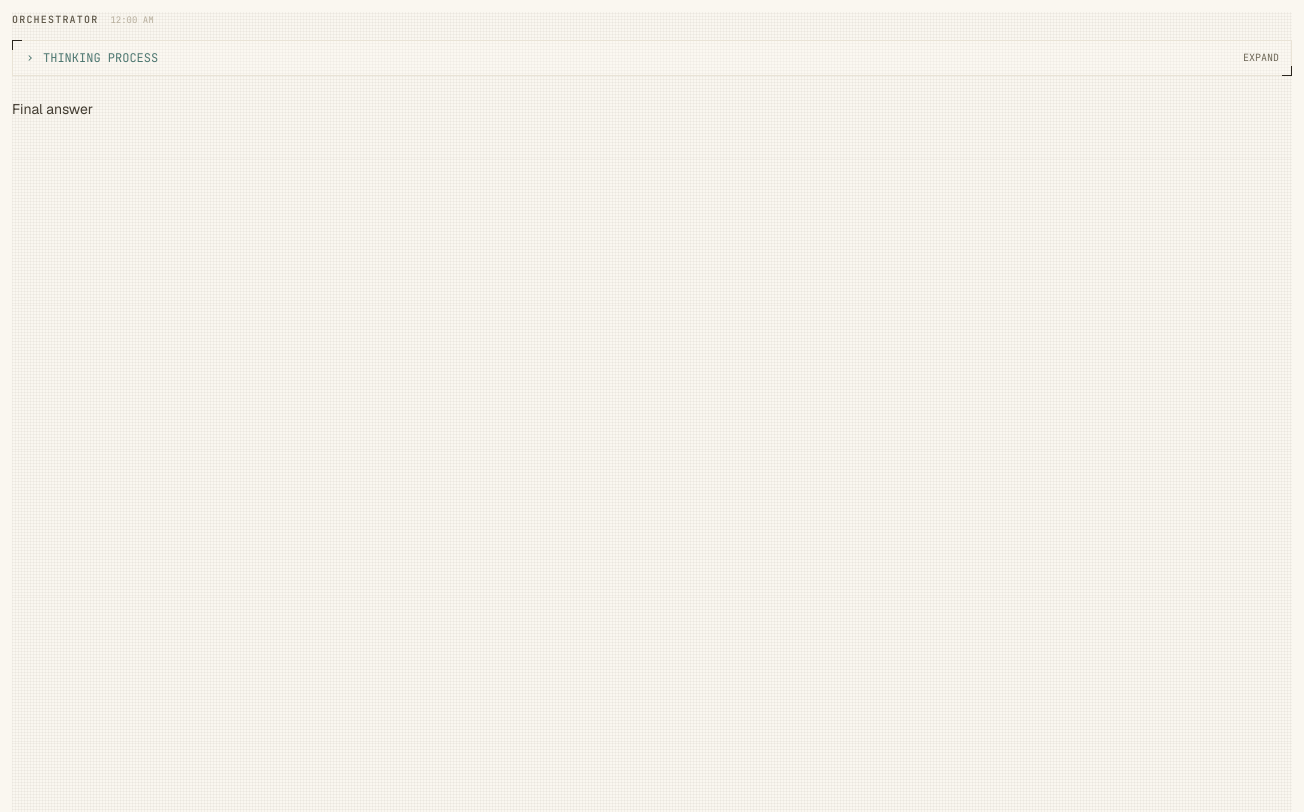
ChatMessage › shows a collapsible THINKING PROCESS section when message has reasoning
The width and height of the screenshot is (1304, 812).
expect the text "EXPAND" is shown: met, box left=1243, top=50, right=1279, bottom=65
expect the text "Step-by-step reasoning trace..." is not shown: met
// Click to expand
Click the text "THINKING PROCESS" at [101, 58], box left=43, top=48, right=158, bottom=66
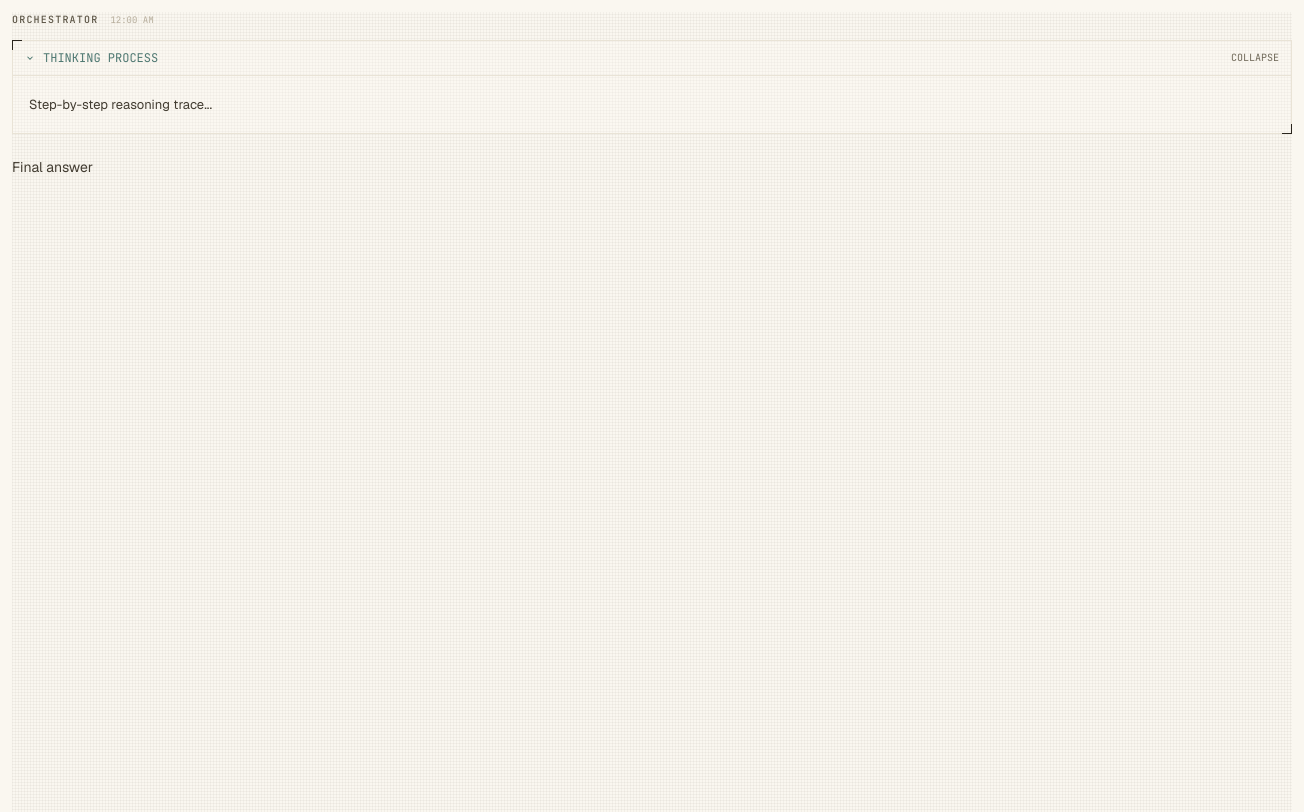
expect the text "Step-by-step reasoning trace..." is shown: met, box left=29, top=96, right=212, bottom=112
expect the text "COLLAPSE" is shown: met
// Click to collapse
Click the text "COLLAPSE" at [1255, 58], box left=1231, top=50, right=1279, bottom=65
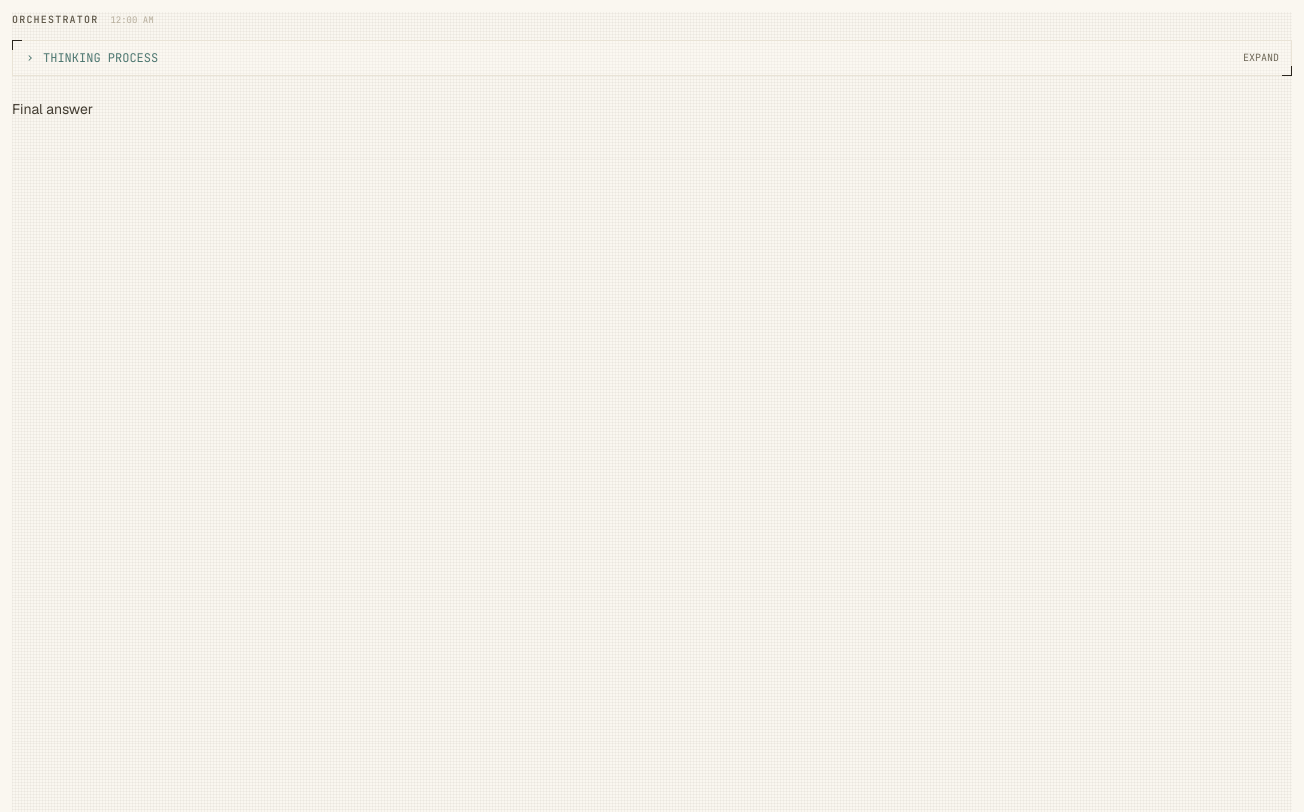
expect the text "Step-by-step reasoning trace..." is gone: met
